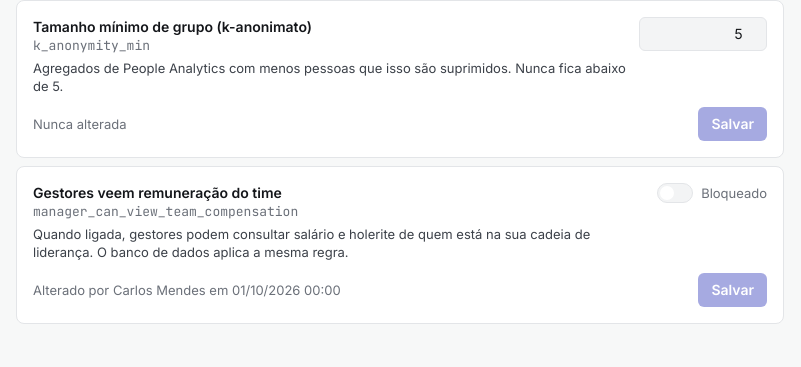
Scenario: Policies editor › shows the API message when the back-end rejects the value
Replace the text in the number field named "k_anonymity_min" with "9". click: coordinates (703, 34)
box: x1=639 y1=17 x2=767 y2=51
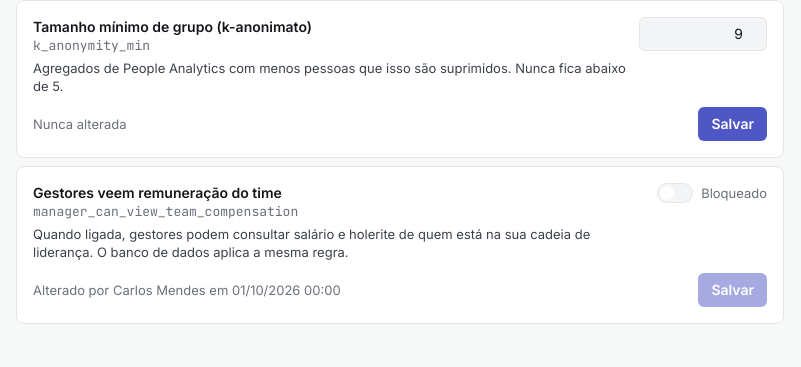
Click the button "Salvar" in the row of "Nunca alterada". click: coordinates (733, 124)
box: x1=698 y1=107 x2=767 y2=141
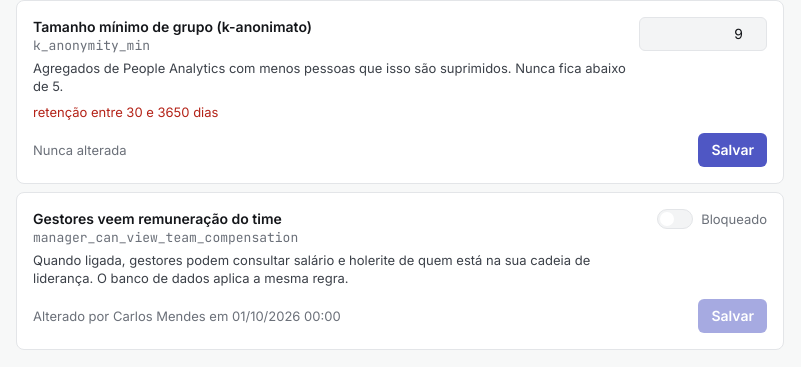
Expected: the text "retenção entre 30 e 3650 dias" is shown, x1=33 y1=104 x2=218 y2=120
